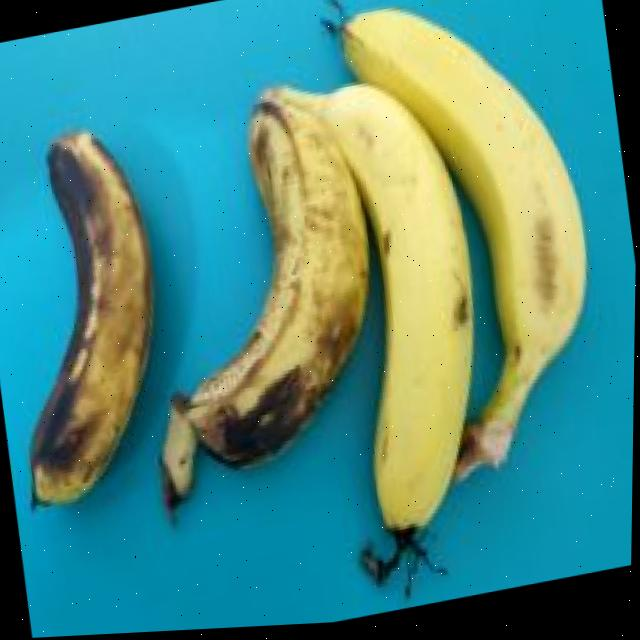Wet: (108, 81, 402, 525), (0, 121, 189, 521)
